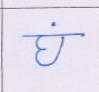anusvara: (52, 22, 56, 26)
